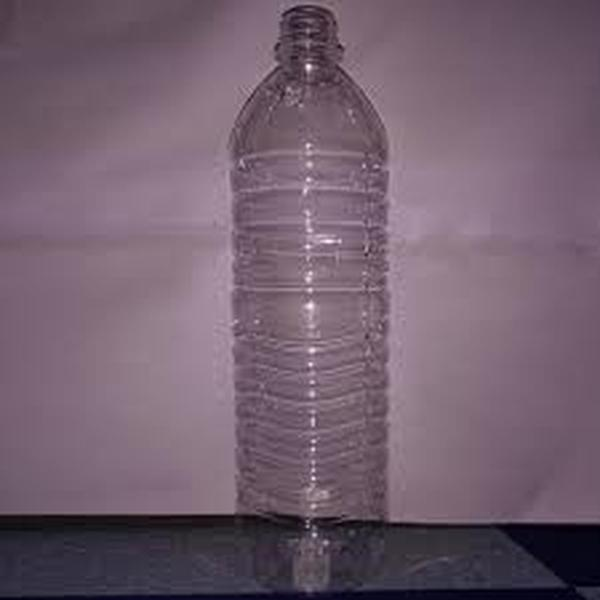tutuma: (216, 4, 413, 593)
